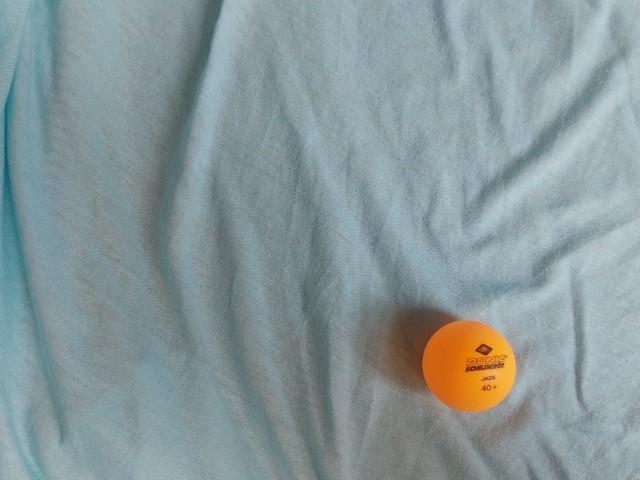oball: (417, 314, 525, 421)
